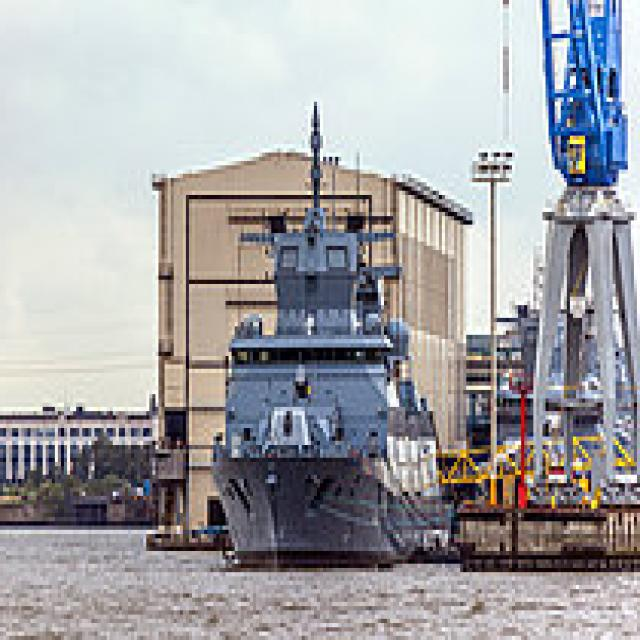Warship: (210, 93, 457, 568)
